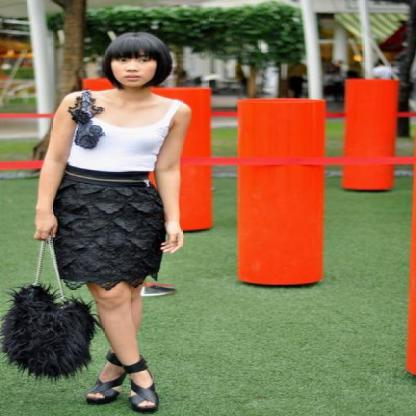bag: (0, 283, 104, 381)
shirt: (62, 90, 186, 171)
shoe: (84, 353, 171, 415)
skirt: (51, 163, 166, 290)
